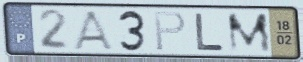2: (36, 7, 71, 52)
3: (117, 9, 146, 53)
A: (70, 9, 117, 52)
L: (193, 11, 226, 52)
M: (225, 11, 274, 54)
P: (153, 10, 188, 53)
